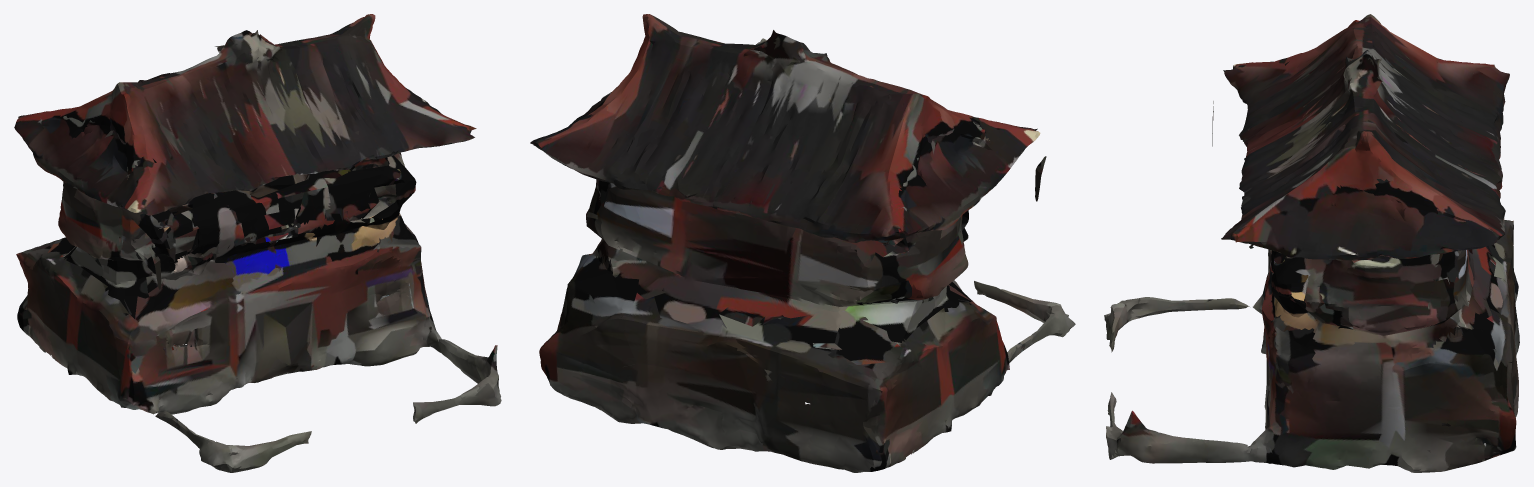
Rendered from house_timber_b.glb.
The picture shows the model from 3 angles, left to right: view 1: azimuth 30°, elevation 25°; view 2: azimuth 150°, elevation 25°; view 3: azimuth 270°, elevation 25°; orthographic projection. The views are drawn at different scales.
Parts seen in each view (by area): view 1: output_unwrapped; view 2: output_unwrapped; view 3: output_unwrapped.
Boxes of the visible parts, <box> form: output_unwrapped: <box>14,14,501,472</box>; output_unwrapped: <box>530,14,1075,472</box>; output_unwrapped: <box>1104,14,1519,472</box>.
Bounding box in the file's own units: 7.9 × 7 × 7.64.
Materials: 1 (1 with a texture image).
